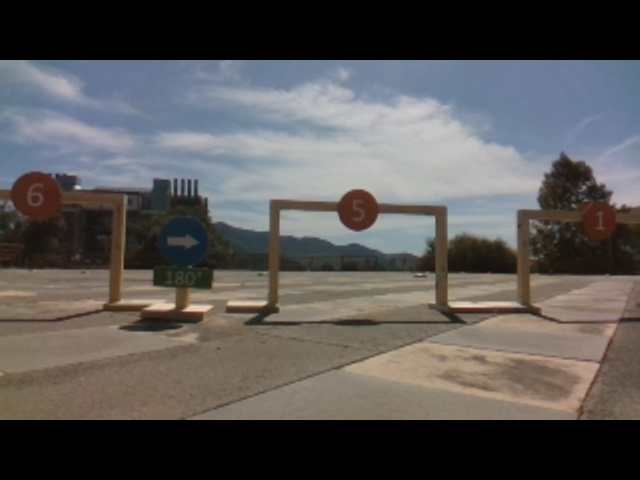180_degree: (149, 263, 213, 289)
arrow_right: (152, 213, 210, 263)
checkpoint_foot: (100, 291, 162, 313), (431, 295, 490, 314), (227, 295, 281, 312), (489, 295, 540, 313)
checkpoint_side: (108, 188, 129, 299), (430, 200, 452, 304), (266, 196, 283, 303), (515, 208, 533, 304)
checkpoint_signal: (268, 194, 447, 219), (1, 183, 132, 209), (517, 206, 640, 227)
five: (337, 185, 380, 232)
one: (580, 201, 618, 238)
six: (9, 171, 66, 219)
